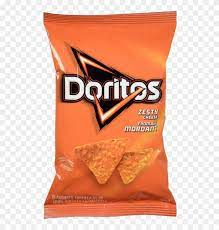Doritos: (32, 5, 184, 218)
